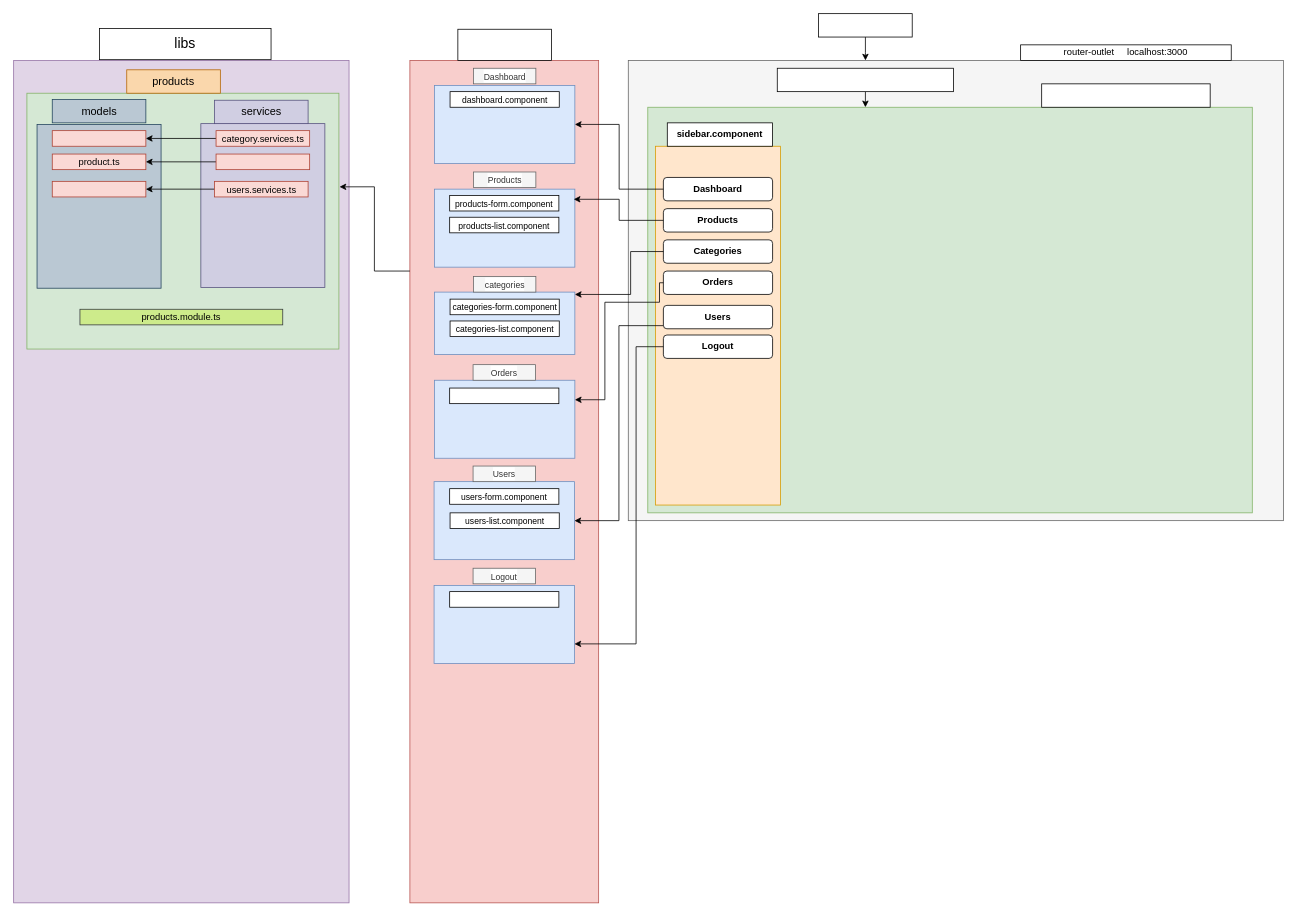
Image size: 1297x916. Some labels were removed from this diagram. The centre of each missing label's shape, as x and y in pixels:
app.component: (x=865, y=25)
category.ts: (x=98, y=138)
pages: (x=504, y=44)
products.services.ts: (x=262, y=161)
router-outlet localhost:3000/children_component: (x=1125, y=95)
shell.component: (x=865, y=79)
user.ts: (x=98, y=189)
